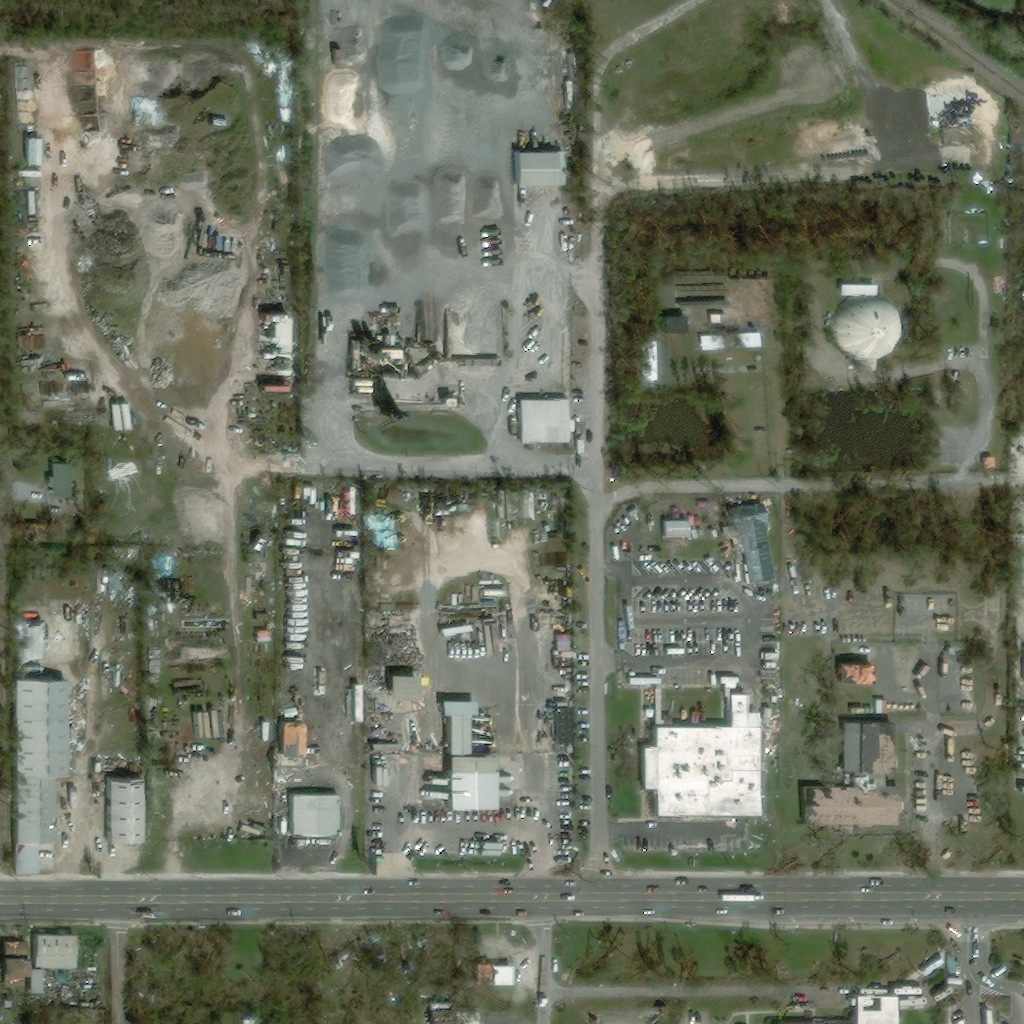destroyed: (765, 708, 782, 737), (26, 527, 56, 542), (74, 971, 96, 984), (254, 601, 269, 619), (256, 503, 276, 514)
major_damage: (803, 722, 899, 827), (257, 314, 288, 392), (428, 1001, 480, 1023), (836, 665, 876, 686), (96, 569, 111, 595), (890, 758, 901, 774)
minor_damage: (639, 693, 762, 815), (722, 498, 775, 581), (105, 778, 141, 843), (280, 720, 303, 767), (706, 332, 760, 348), (482, 965, 516, 987), (639, 343, 656, 385), (0, 958, 25, 975), (1, 938, 26, 954)
no_damage: (10, 680, 89, 875), (433, 699, 492, 808), (837, 296, 899, 368), (289, 786, 339, 840), (518, 399, 576, 444), (509, 152, 556, 189), (32, 935, 76, 969), (15, 621, 43, 672), (851, 994, 895, 1023), (49, 459, 69, 498), (553, 708, 573, 746), (392, 676, 424, 699), (659, 316, 689, 337), (661, 521, 689, 540), (25, 138, 41, 168), (838, 285, 875, 295), (27, 971, 39, 991), (259, 723, 266, 743)
